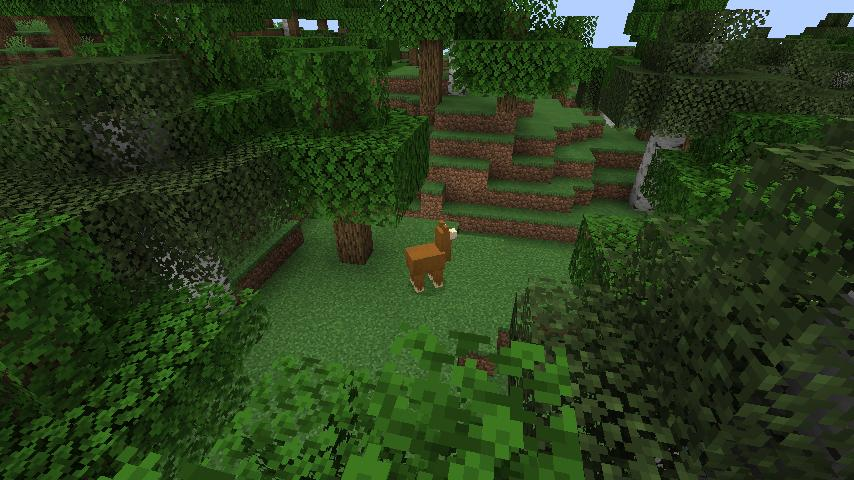llama: (403, 219, 459, 296)
